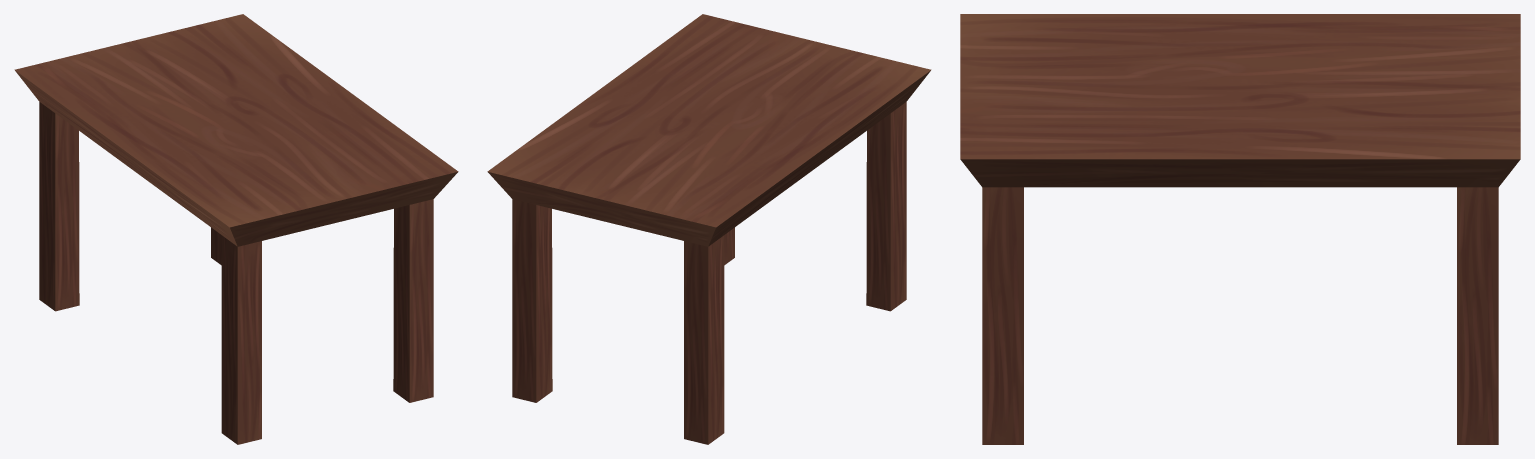
The model's file is mesaLong.fbx.
3 renders of one model, left to right at view 1: azimuth 30°, elevation 25°; view 2: azimuth 150°, elevation 25°; view 3: azimuth 270°, elevation 25°, orthographic. The views are drawn at different scales.
Visible parts, largest first — view 1: mesinhaLong; view 2: mesinhaLong; view 3: mesinhaLong.
Boxes of the visible parts, x1,y1,x2,y2 form: mesinhaLong: (14,14,458,444); mesinhaLong: (487,14,931,444); mesinhaLong: (960,14,1520,444).
Bounding box in the file's own units: 200 × 190 × 326.
1 material, 1 textured.
